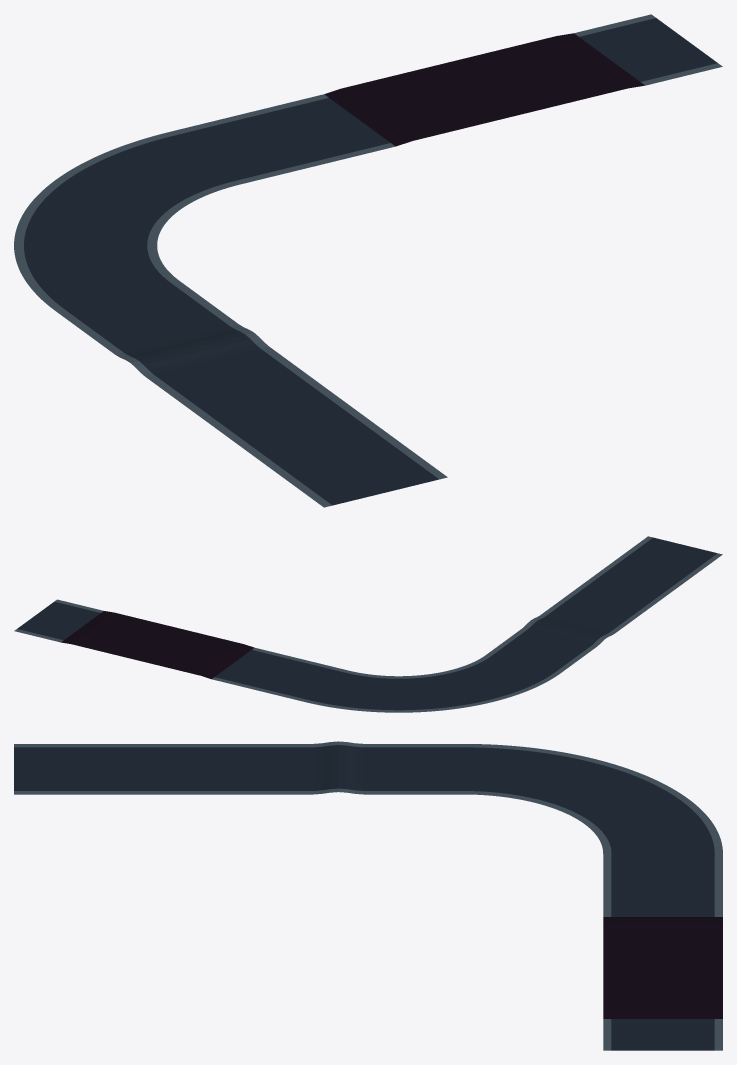
Rendered from RoadAndLanding.obj.
The picture shows the model from 3 angles, top to bottom: view 1: azimuth 30°, elevation 25°; view 2: azimuth 150°, elevation 25°; view 3: azimuth 270°, elevation 25°; orthographic projection. The views are drawn at different scales.
Bounding box in the file's own units: 87.2 × 0.32 × 85.2.
